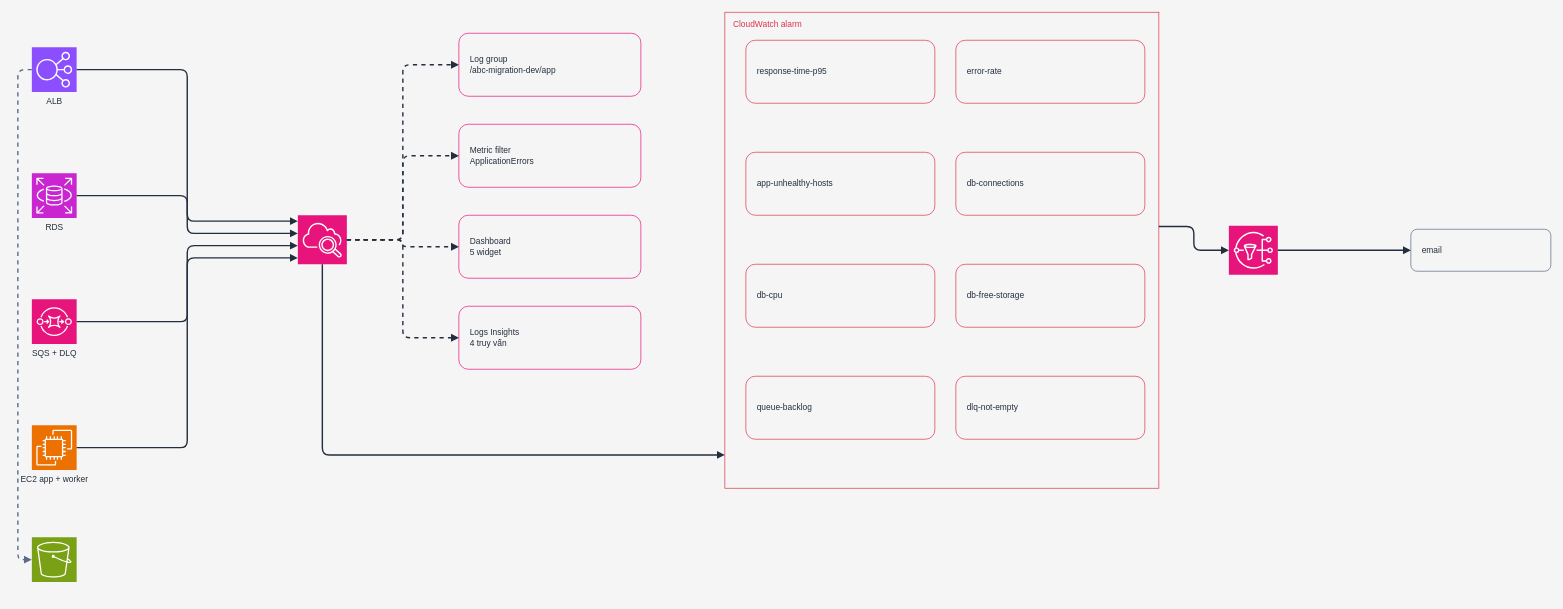
Image size: 1563x609. Some labels were removed from this diagram. The shapes that lost their labels are listed below. From the top down, each one's centre as x and y in pixels, then its label:
At point 322,239: "Amazon CloudWatch".
At point 1253,250: "Amazon SNS".
At point 54,559: "S3 · ALB access log".
